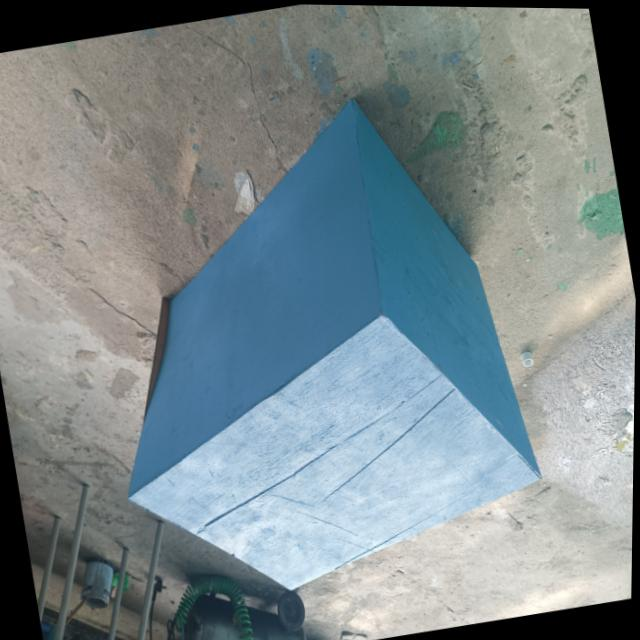blue_box: (65, 87, 567, 620)
